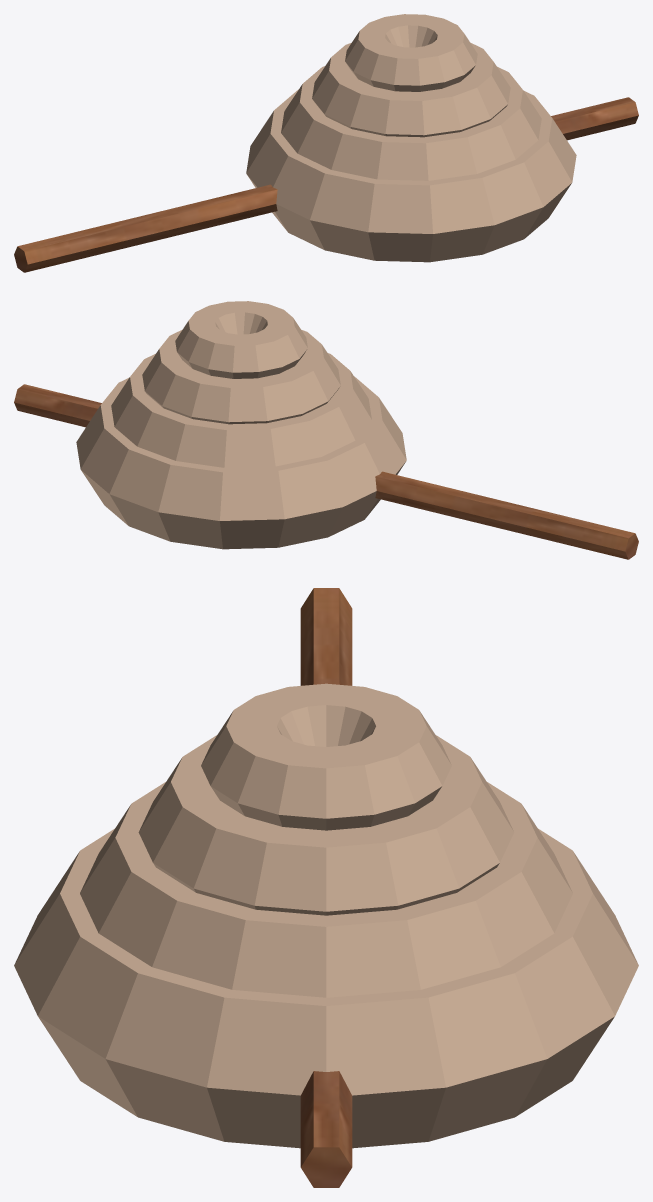
Rendered from dish_cooked_snail.glb.
The picture shows the model from 3 angles, top to bottom: view 1: azimuth 30°, elevation 25°; view 2: azimuth 150°, elevation 25°; view 3: azimuth 270°, elevation 25°; orthographic projection. The views are drawn at different scales.
Parts seen in each view (by area): view 1: model; view 2: model; view 3: model.
Part boxes in pixels (x1=…): model: x1=14, y1=14, x2=638, y2=272; model: x1=14, y1=301, x2=638, y2=559; model: x1=14, y1=588, x2=638, y2=1187.
Size of the model in its own units: 0.36 by 0.0936 by 0.17.
Materials: 2 (1 with a texture image).
